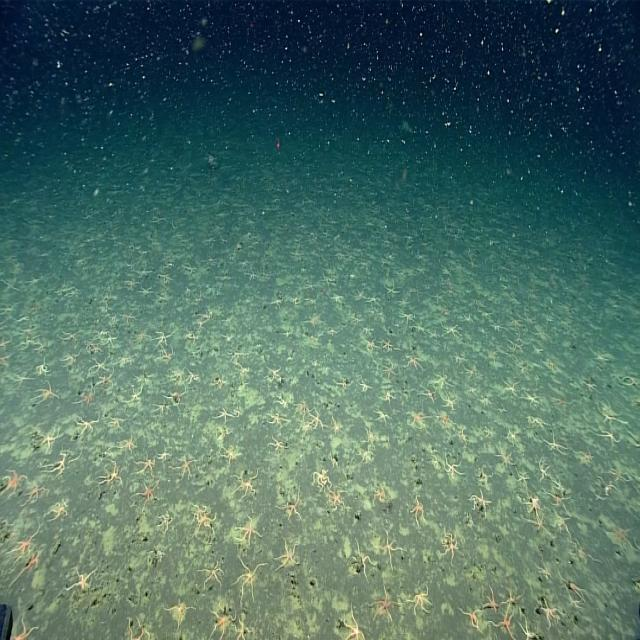brittle-stars: (6, 546, 44, 594), (231, 556, 265, 604), (2, 524, 38, 568), (370, 582, 404, 623), (377, 528, 400, 570), (352, 538, 374, 581), (488, 608, 517, 639), (272, 539, 300, 571), (275, 492, 302, 525), (63, 570, 99, 594), (342, 604, 366, 640), (232, 469, 258, 501), (208, 611, 236, 640), (234, 515, 262, 544), (407, 584, 433, 615), (539, 596, 565, 627), (132, 480, 159, 507), (0, 471, 27, 498), (164, 602, 193, 627), (611, 524, 633, 555), (41, 452, 66, 478), (544, 490, 572, 513), (76, 412, 100, 438), (32, 382, 58, 406), (497, 592, 523, 616), (170, 458, 197, 481), (550, 508, 572, 535), (515, 610, 536, 638), (458, 604, 482, 628), (100, 463, 122, 489), (542, 433, 568, 455), (11, 619, 38, 640), (409, 496, 426, 529), (470, 490, 490, 518), (598, 407, 626, 427), (126, 619, 152, 640), (200, 566, 224, 588), (442, 454, 463, 479), (442, 530, 458, 562), (526, 492, 543, 522), (48, 502, 70, 525), (325, 488, 348, 510), (309, 470, 333, 491), (601, 422, 620, 448), (74, 386, 95, 408), (496, 447, 518, 468), (23, 485, 48, 503), (193, 516, 218, 534), (93, 369, 114, 390), (132, 456, 154, 476), (568, 579, 586, 603), (500, 378, 521, 398), (573, 446, 594, 466), (213, 408, 239, 424), (234, 617, 252, 640), (534, 557, 552, 580), (370, 481, 387, 505), (435, 409, 455, 429), (430, 372, 452, 390), (41, 429, 58, 452), (308, 407, 324, 431), (152, 330, 175, 346), (59, 352, 82, 368), (406, 408, 425, 427), (117, 437, 138, 454), (158, 512, 175, 533), (481, 589, 498, 610), (608, 466, 629, 483), (118, 309, 139, 326), (268, 409, 287, 427), (476, 468, 494, 487), (190, 502, 208, 520), (441, 321, 459, 339), (89, 357, 108, 374), (126, 383, 142, 403), (165, 386, 186, 401), (267, 435, 286, 451), (302, 314, 321, 330), (115, 352, 134, 368), (404, 356, 424, 371), (528, 414, 548, 429), (549, 396, 572, 409), (58, 329, 82, 341), (618, 375, 640, 388), (361, 429, 376, 448), (267, 364, 282, 383), (293, 399, 308, 418), (106, 415, 126, 429), (515, 468, 529, 488), (506, 425, 520, 445), (538, 460, 550, 483), (417, 389, 438, 402), (221, 446, 235, 465), (191, 312, 211, 325), (156, 347, 172, 363), (524, 389, 540, 405), (373, 410, 391, 424), (330, 416, 342, 436), (442, 392, 456, 409), (99, 333, 117, 346), (185, 369, 200, 384), (582, 380, 598, 394), (462, 365, 479, 378), (152, 403, 172, 414), (397, 311, 415, 323), (382, 364, 397, 378), (169, 368, 184, 382), (215, 429, 233, 440), (332, 379, 354, 388), (364, 336, 377, 351), (156, 449, 171, 461), (384, 284, 399, 296), (357, 381, 373, 392), (36, 362, 50, 374), (330, 292, 344, 304), (381, 392, 397, 402), (382, 339, 394, 352), (214, 377, 228, 388), (355, 290, 366, 302), (366, 296, 379, 306), (245, 271, 258, 281), (140, 286, 152, 296), (286, 293, 298, 303), (270, 298, 284, 305)
